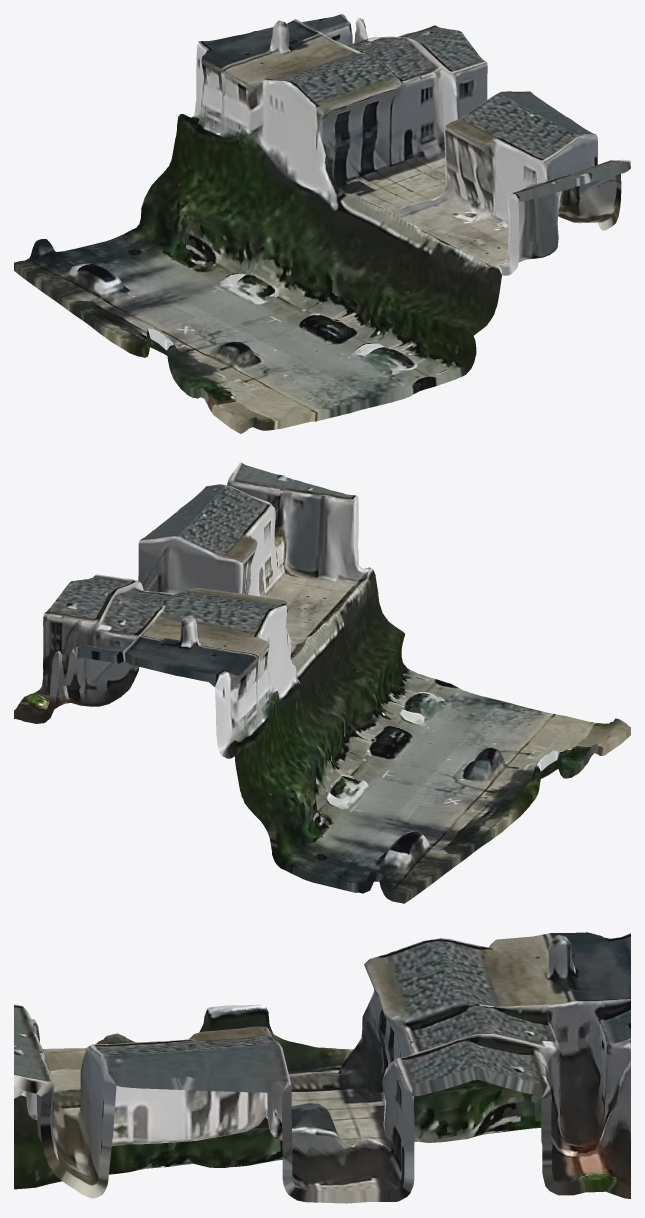
The model's file is z20-167779-405217-h0-yup-uvflip-v3-world.glb.
The picture shows the model from 3 angles, top to bottom: view 1: azimuth 30°, elevation 25°; view 2: azimuth 150°, elevation 25°; view 3: azimuth 270°, elevation 25°; orthographic projection. The views are drawn at different scales.
Size of the model in its own units: 30.16 by 15.72 by 30.32.
1 material, 1 textured.
